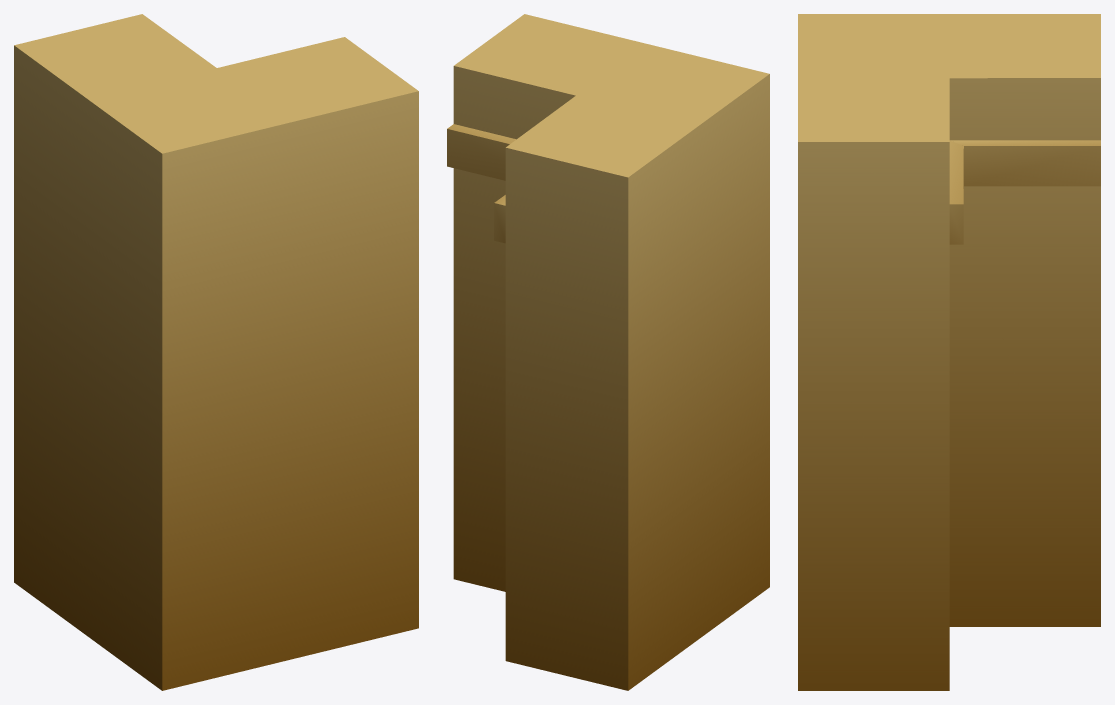
Rendered from Enviroment__Wall_002.fbx.
3 views of the same model, side by side, from view 1: azimuth 30°, elevation 25°; view 2: azimuth 150°, elevation 25°; view 3: azimuth 270°, elevation 25° (orthographic). The views are drawn at different scales.
Parts seen in each view (by area): view 1: Cube.006; view 2: Cube.006; view 3: Cube.006.
Part boxes in pixels (x1,y1,x2,y2): Cube.006: (14,14,418,690); Cube.006: (447,14,769,690); Cube.006: (798,14,1100,690).
Bounding box in the file's own units: 20 × 40 × 20.
